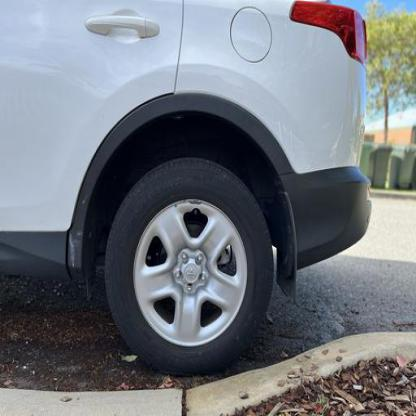Tire: (104, 156, 275, 376)
